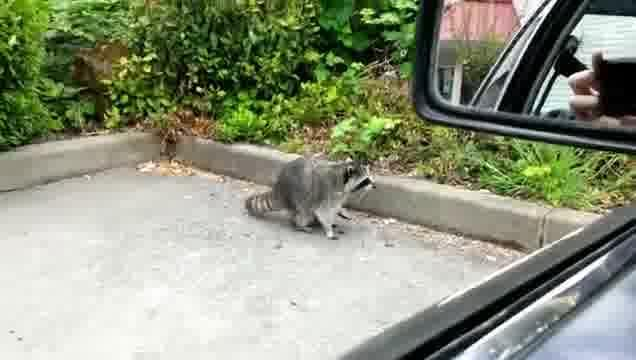raccoon: (245, 156, 377, 243)
